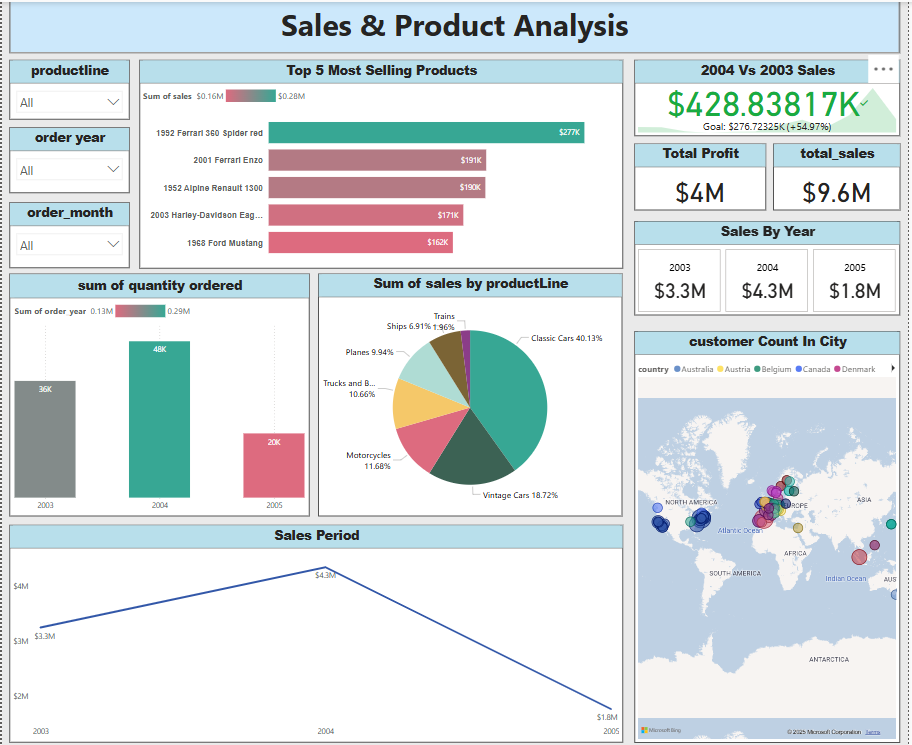

Layout of this report page (visuals, bound fields, positions):
{"tool":"powerbi","page":{"name":"Page 1","canvas":[1280,1150],"ordinal":0},"visuals":[{"type":"pieChart","title":"Product Sales","fields":{"Category":["product_lines.productLine"],"Y":["Sum(oder_detail.sales)"]},"box":[425.7,405.7,488.6,404.3],"z":0},{"type":"slicer","title":"Month","fields":{"Values":["order.Order_Month"]},"box":[911.4,8.6,175.7,81.4],"z":1000},{"type":"slicer","title":"Year","fields":{"Values":["order.order_year"]},"box":[707.1,10,191.4,81.4],"z":2000},{"type":"kpi","title":"2004 Vs 2003 Sales","fields":{"Goal":["order.sales_2003"],"TrendLine":["order.Order_Month"],"Indicator":["order.sales_2004"]},"box":[12.9,108.6,292.9,152.9],"z":3000},{"type":"map","title":"Customers","fields":{"Size":["CountNonNull(customers.customerNumber)"],"Category":["customers.city"],"Series":["customers.country"]},"box":[925.7,405.7,348.6,404.3],"z":4000},{"type":"card","title":"Total Profit","fields":{"Values":["Sum(oder_detail.profit)"]},"box":[167.1,272.9,138.6,122.9],"z":5000},{"type":"slicer","title":"Product Category","fields":{"Values":["products.productLine"]},"box":[501.4,11.4,192.9,81.4],"z":6000},{"type":"columnChart","title":"Quantity Ordered","fields":{"Category":["order.order_year"],"Y":["Sum(oder_detail.quantityOrdered)"]},"box":[12.9,405.7,400,404.3],"z":7000},{"type":"card","title":"Total Sales","fields":{"Values":["oder_detail.total_sales"]},"box":[11.4,272.9,147.1,122.9],"z":8000},{"type":"clusteredBarChart","title":"Top 5 Selling Products","fields":{"Category":["products.productName"],"Y":["Sum(oder_detail.sales)"]},"box":[501.4,108.6,772.9,287.1],"z":9000},{"type":"textbox","box":[12.5,8.8,471.2,83.8],"z":10000},{"type":"cardVisual","title":"Sales By Year","fields":{"Data":["order.sales_2003","order.sales_2004","order.sales_2005"]},"box":[317.1,108.6,165.7,287.1],"z":11000},{"type":"lineChart","title":"Sales Period","fields":{"Y":["Sum(oder_detail.sales)"],"Category":["order.orderDate.Variation.Date Hierarchy.Year","order.orderDate.Variation.Date Hierarchy.Quarter","order.orderDate.Variation.Date Hierarchy.Month","order.orderDate.Variation.Date Hierarchy.Day"]},"box":[11.4,821.4,797.1,307.1],"z":12000},{"type":"treemap","title":"Most Profitable Countries","fields":{"Group":["customers.country"],"Values":["Sum(oder_detail.sales)","CountNonNull(customers.country_city)"]},"box":[824.3,822.9,451.4,305.7],"z":13000},{"type":"slicer","title":"Vendor","fields":{"Values":["products.productVendor"]},"box":[1100,8.6,175.7,81.4],"z":14000}]}

Visuals, with their boxes on the page's 1280x1150 design canvas (x1, y1, x2, y2). These are canvas units, not pixel positions in the 912x745 screenshot, which may show the page scaled, cropped or inside an application window:
"Product Sales" pieChart: [x1=426, y1=406, x2=914, y2=810]
"Month" slicer: [x1=911, y1=9, x2=1087, y2=90]
"Year" slicer: [x1=707, y1=10, x2=898, y2=91]
"2004 Vs 2003 Sales" kpi: [x1=13, y1=109, x2=306, y2=262]
"Customers" map: [x1=926, y1=406, x2=1274, y2=810]
"Total Profit" card: [x1=167, y1=273, x2=306, y2=396]
"Product Category" slicer: [x1=501, y1=11, x2=694, y2=93]
"Quantity Ordered" columnChart: [x1=13, y1=406, x2=413, y2=810]
"Total Sales" card: [x1=11, y1=273, x2=158, y2=396]
"Top 5 Selling Products" clusteredBarChart: [x1=501, y1=109, x2=1274, y2=396]
textbox: [x1=12, y1=9, x2=484, y2=93]
"Sales By Year" cardVisual: [x1=317, y1=109, x2=483, y2=396]
"Sales Period" lineChart: [x1=11, y1=821, x2=808, y2=1128]
"Most Profitable Countries" treemap: [x1=824, y1=823, x2=1276, y2=1129]
"Vendor" slicer: [x1=1100, y1=9, x2=1276, y2=90]
